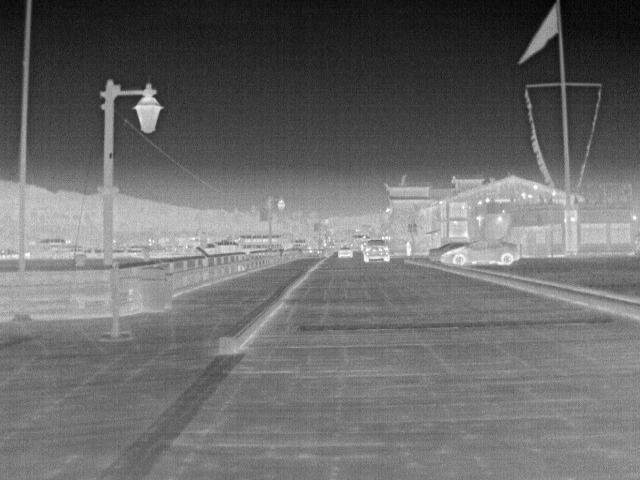car: (436, 235, 524, 266), (426, 242, 468, 261), (360, 239, 391, 264), (337, 246, 355, 257)
person: (406, 239, 414, 258)
